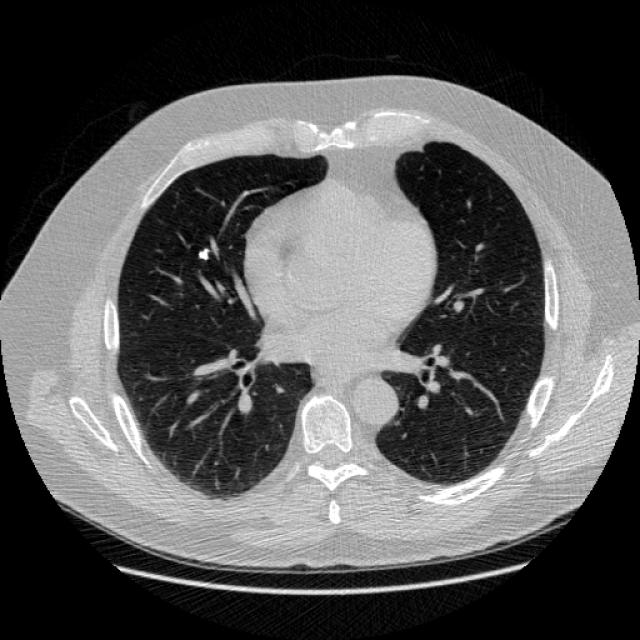nodule: (192, 244, 212, 264)
